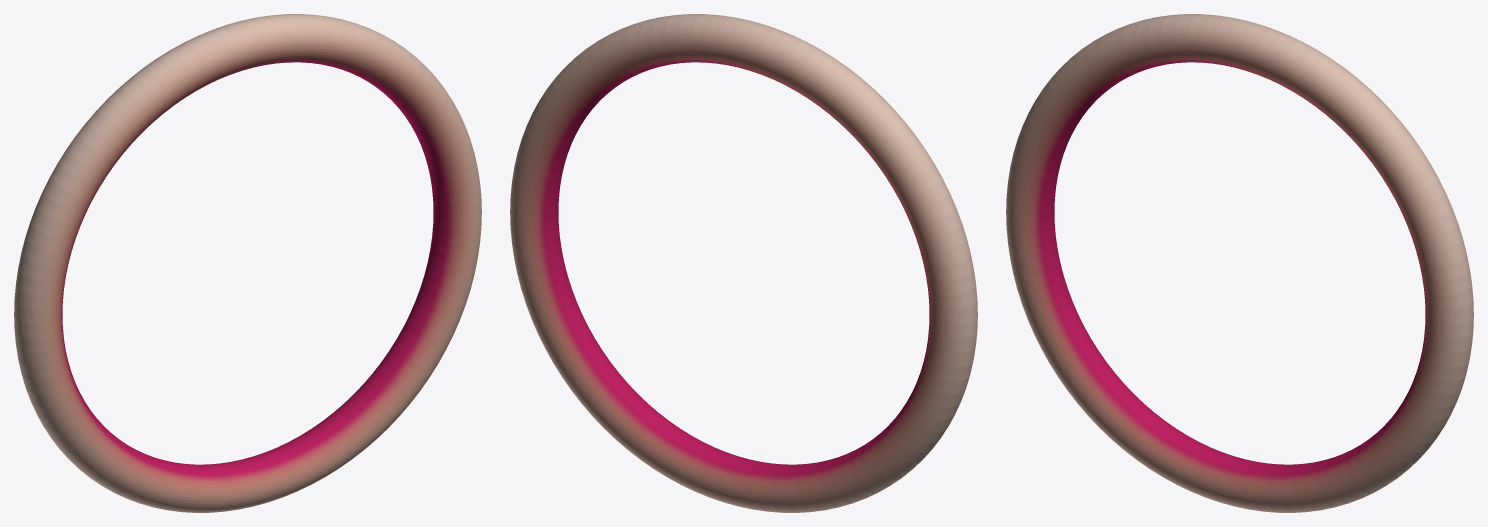
3 views of the same model, side by side, from view 1: azimuth 30°, elevation 25°; view 2: azimuth 150°, elevation 25°; view 3: azimuth 330°, elevation 25° (orthographic).
Visible parts, largest first — view 1: world; view 2: world; view 3: world.
Boxes of the visible parts, x1,y1,x2,y2 form: world: (14,14,481,512); world: (510,14,977,512); world: (1006,14,1473,512).
Bounding box in the file's own units: 24.93 × 24.93 × 2.26.
